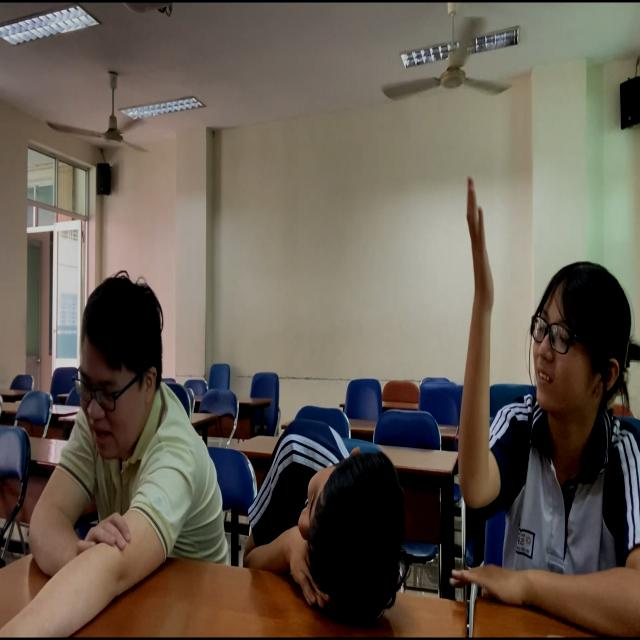raise_hand: (451, 169, 640, 640)
sleep: (237, 394, 426, 639)
